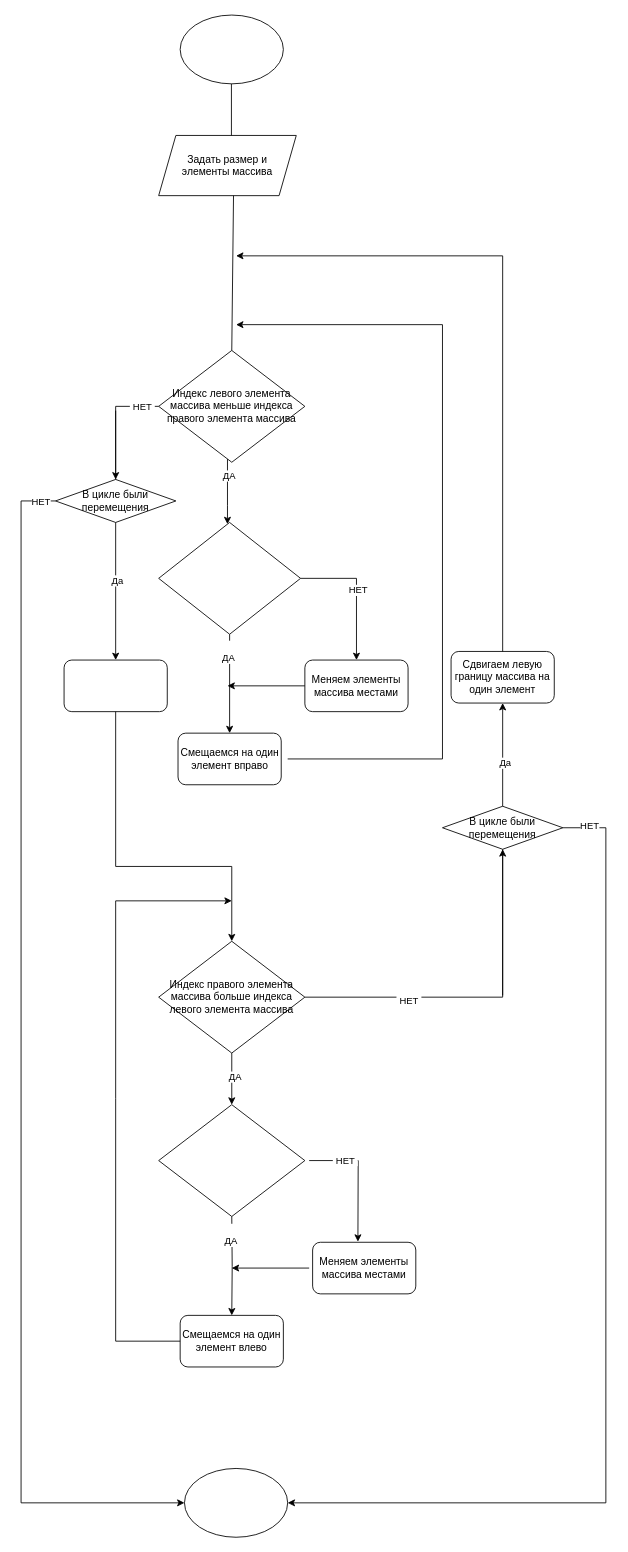
This 628x1552 diagram has some shape labels left out. Each missing label, with the box of its shape:
Левый элемент массива меньше правого: (158, 522, 301, 634)
Правый элемент массива больше левого: (158, 1104, 305, 1216)
Сдвигаем правую границу массива на один элемент: (63, 659, 167, 712)
Старт: (179, 14, 283, 84)
Стоп: (184, 1468, 288, 1537)
